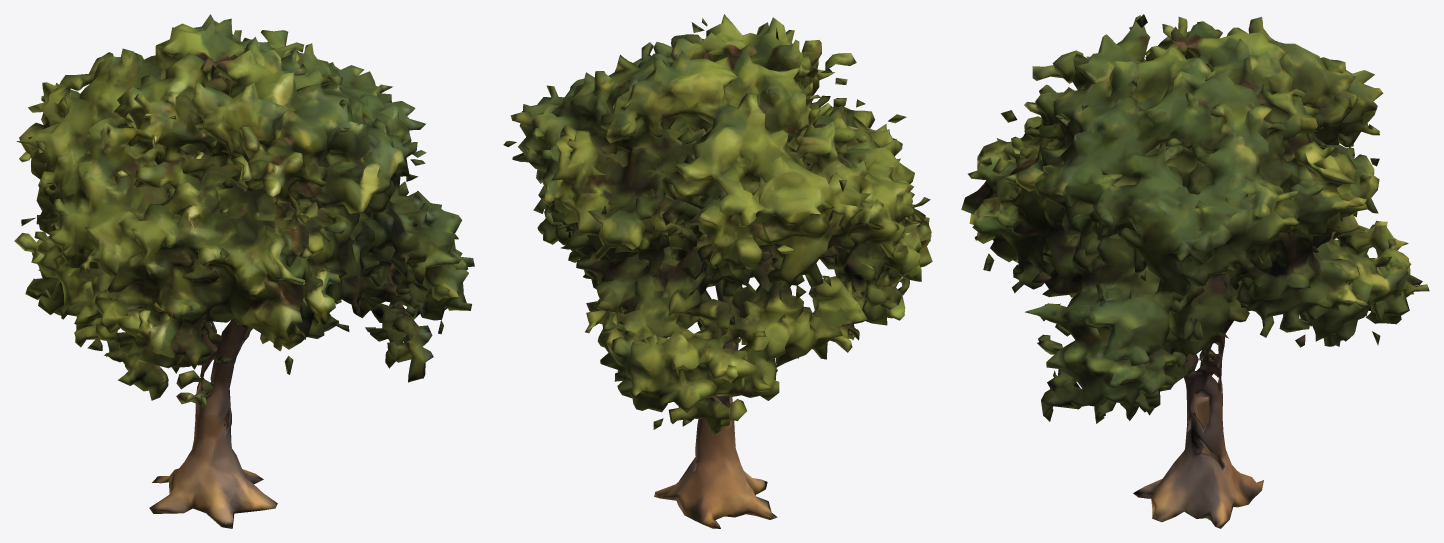
File: AI_DroopingPecanTree.fbx
The picture shows the model from 3 angles, left to right: view 1: azimuth 30°, elevation 25°; view 2: azimuth 150°, elevation 25°; view 3: azimuth 270°, elevation 25°; orthographic projection. The views are drawn at different scales.
Parts seen in each view (by area): view 1: Mesh_0; view 2: Mesh_0; view 3: Mesh_0.
Boxes of the visible parts, x1=… form: Mesh_0: x1=14, y1=14, x2=474, y2=528; Mesh_0: x1=503, y1=14, x2=932, y2=528; Mesh_0: x1=961, y1=14, x2=1429, y2=528.
Size of the model in its own units: 171 by 196 by 175.
1 material, 1 textured.
